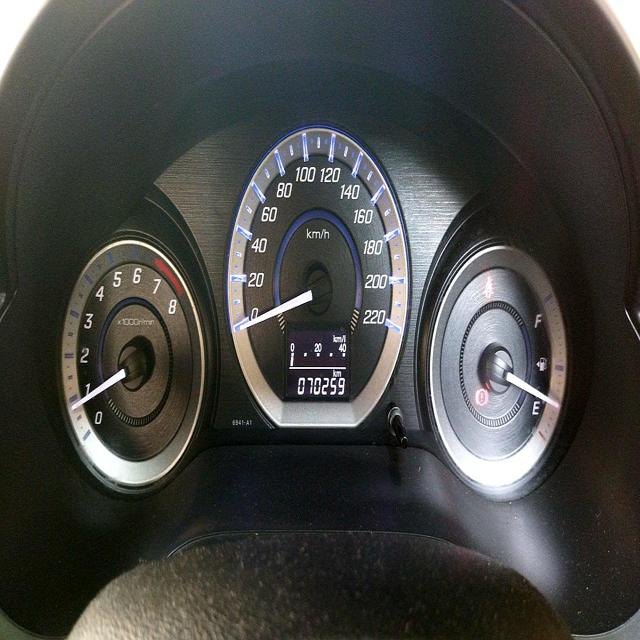odometer: (294, 372, 347, 398)
